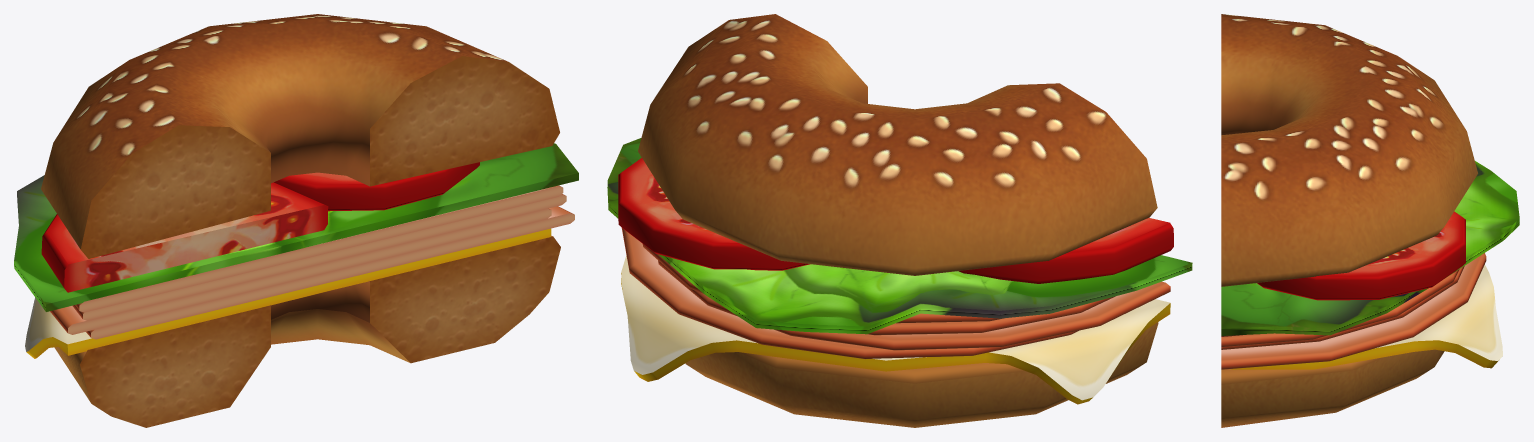
The model's file is Bagel_Sandwich_Half_01.fbx.
3 views of the same model, side by side, from view 1: azimuth 30°, elevation 25°; view 2: azimuth 150°, elevation 25°; view 3: azimuth 270°, elevation 25° (orthographic). The views are drawn at different scales.
Visible parts, largest first — view 1: Bagel_Sandwich_Half_01; view 2: Bagel_Sandwich_Half_01; view 3: Bagel_Sandwich_Half_01.
Boxes of the visible parts, <box> form: Bagel_Sandwich_Half_01: <box>14,14,578,427</box>; Bagel_Sandwich_Half_01: <box>607,14,1192,427</box>; Bagel_Sandwich_Half_01: <box>1221,14,1519,427</box>.
Bounding box in the file's own units: 54.79 × 28.61 × 28.83.
